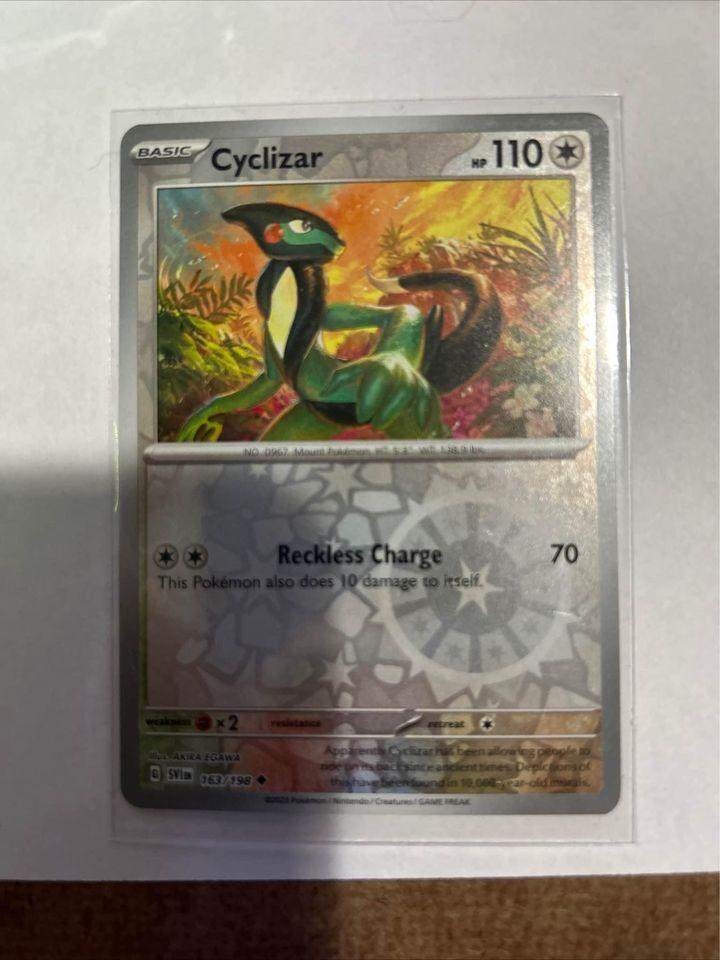card: (117, 111, 623, 816)
